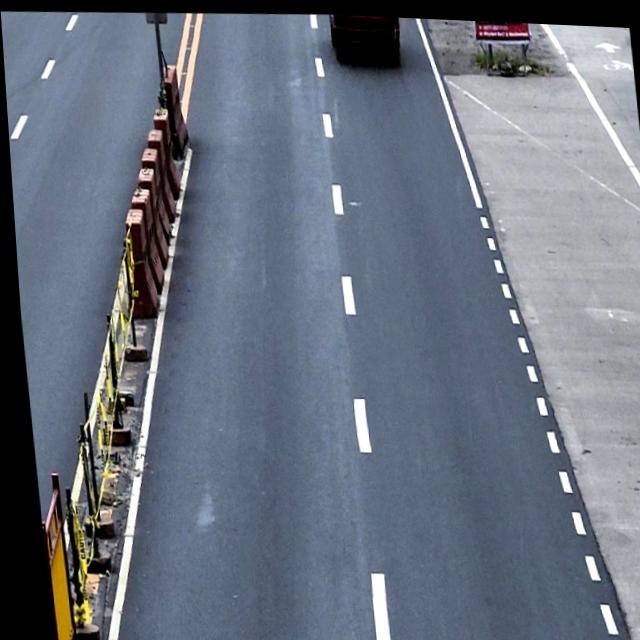Car: (328, 11, 403, 59)
